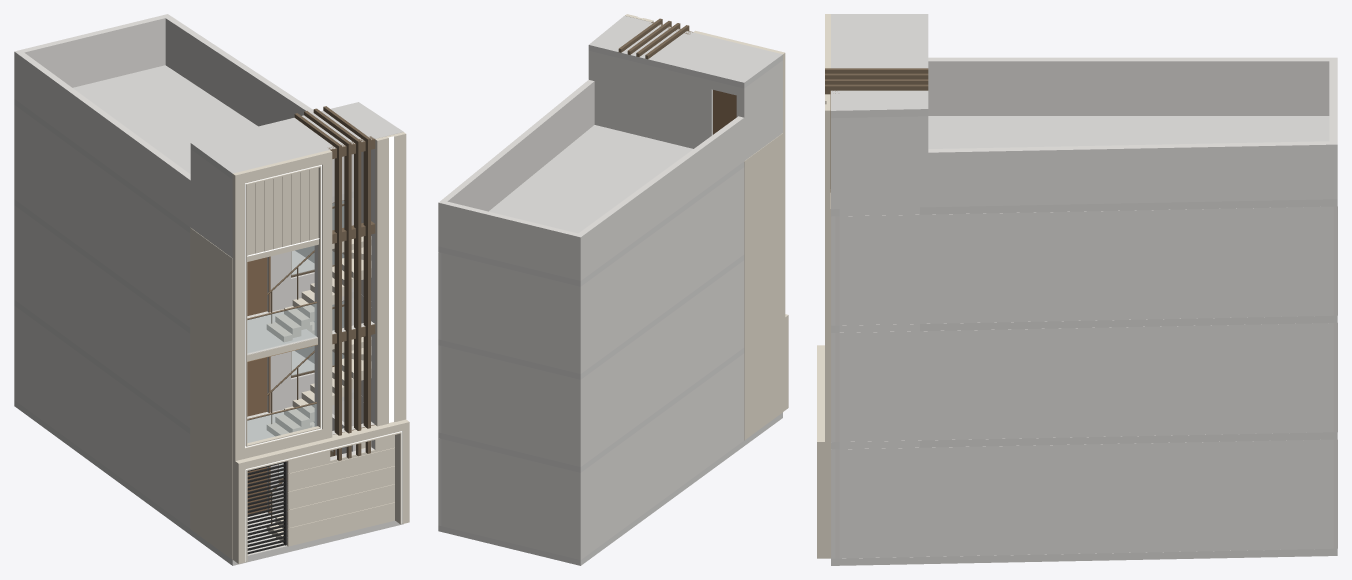
Rendered from house.glb.
3 renders of one model, left to right at view 1: azimuth 30°, elevation 25°; view 2: azimuth 150°, elevation 25°; view 3: azimuth 270°, elevation 25°, orthographic. The views are drawn at different scales.
Visible parts, largest first — view 1: FACADE_marble, F2_wall, F1_wall, G_wall, F2_slab, FACADE_cnc, G_slab, FACADE_led, F2_glass, FACADE_gatemetal, F1_glass, F2_marble (+8 smaller); view 2: F2_wall, G_wall, F1_wall, F2_slab, FACADE_marble, G_slab, F1_slab, FACADE_cnc, F2_walnut; view 3: F2_wall, G_wall, F1_wall, F2_slab, G_slab, FACADE_marble, F1_slab, FACADE_cnc.
Part boxes in pixels (bbox=[...]): FACADE_marble: bbox=[190, 132, 409, 563]; F2_wall: bbox=[14, 14, 374, 337]; F1_wall: bbox=[14, 205, 374, 427]; G_wall: bbox=[14, 306, 374, 545]; F2_slab: bbox=[14, 65, 403, 233]; FACADE_cnc: bbox=[294, 106, 375, 460]; G_slab: bbox=[14, 299, 403, 565]; FACADE_led: bbox=[245, 136, 402, 561]; F2_glass: bbox=[247, 200, 344, 353]; FACADE_gatemetal: bbox=[247, 461, 286, 554]; F1_glass: bbox=[247, 301, 344, 442]; F2_marble: bbox=[266, 236, 371, 342]; F2_wall: bbox=[438, 51, 782, 373]; G_wall: bbox=[438, 353, 744, 559]; F1_wall: bbox=[438, 260, 744, 466]; F2_slab: bbox=[438, 15, 782, 286]; FACADE_marble: bbox=[625, 14, 788, 440]; G_slab: bbox=[438, 348, 782, 565]; F1_slab: bbox=[438, 254, 744, 379]; FACADE_cnc: bbox=[618, 18, 692, 59]; F2_walnut: bbox=[713, 90, 736, 134]; F2_wall: bbox=[831, 57, 1337, 325]; G_wall: bbox=[831, 439, 1337, 558]; F1_wall: bbox=[831, 322, 1337, 442]; F2_slab: bbox=[831, 14, 1337, 216]; G_slab: bbox=[831, 432, 1337, 565]; FACADE_marble: bbox=[817, 14, 830, 558]; F1_slab: bbox=[831, 315, 1337, 332]; FACADE_cnc: bbox=[825, 68, 928, 192].
Bounding box in the file's own units: 5.72 × 12.62 × 12.96.
